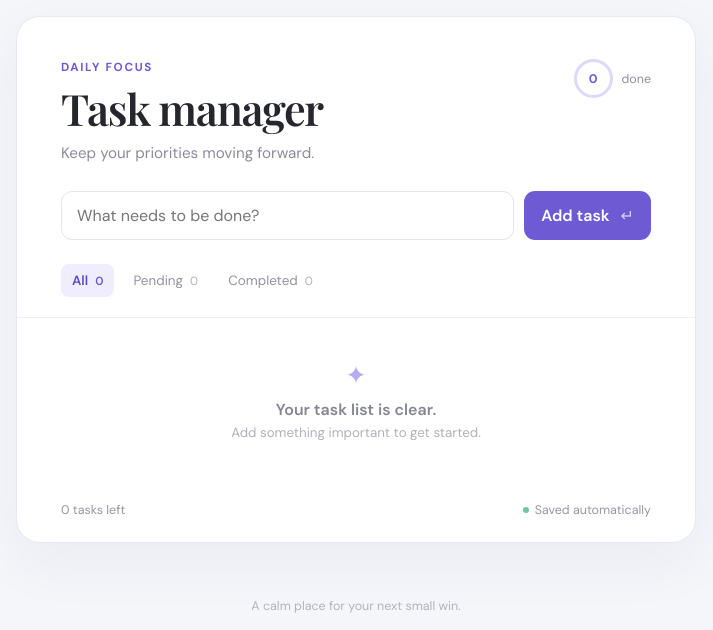
task manager › marks a task as completed
Type "Finish the report" into the field named "Add a task" at (288, 215), box [61,191,514,240]
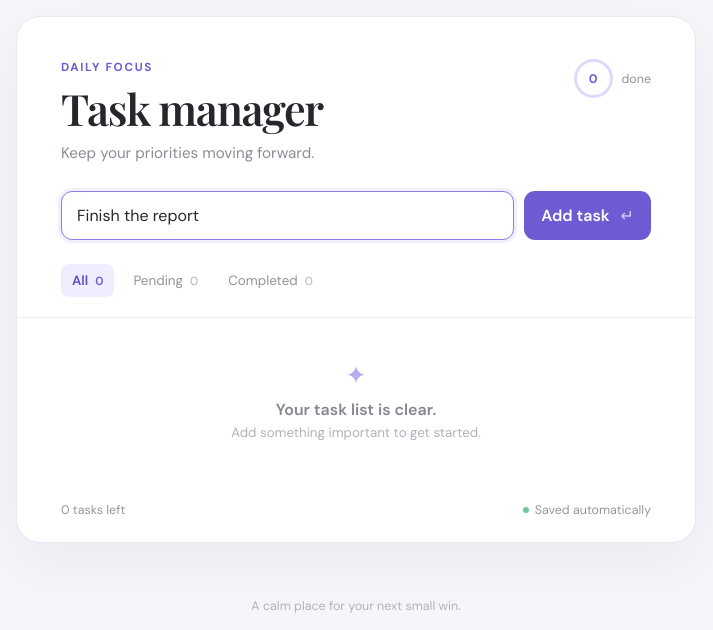
Click the button "Add task ↵" at (588, 215), box [524,191,651,240]
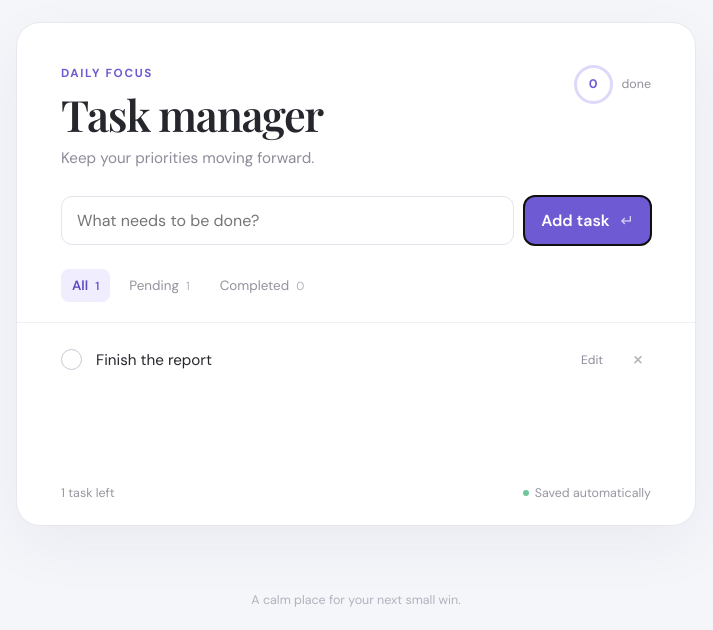
Click the button named "Mark Finish the report as completed" at (72, 360), box [61,349,82,370]
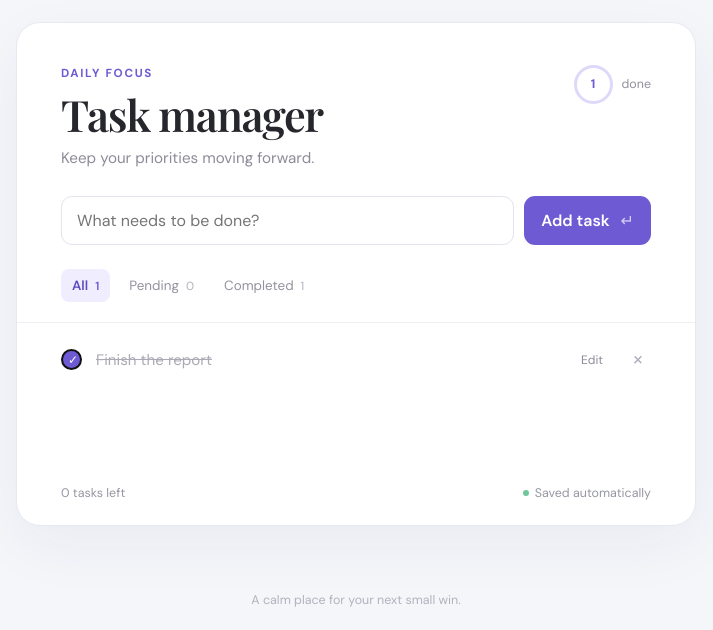
Expected: the button named "Mark Finish the report as pending" is shown, [61,349,82,370]
Expected: the text "0 tasks left" is shown, [61,485,125,501]
